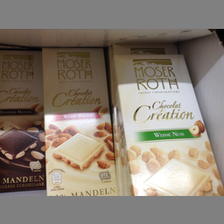chocolate: (112, 54, 224, 197), (42, 47, 113, 196), (1, 50, 44, 193)
